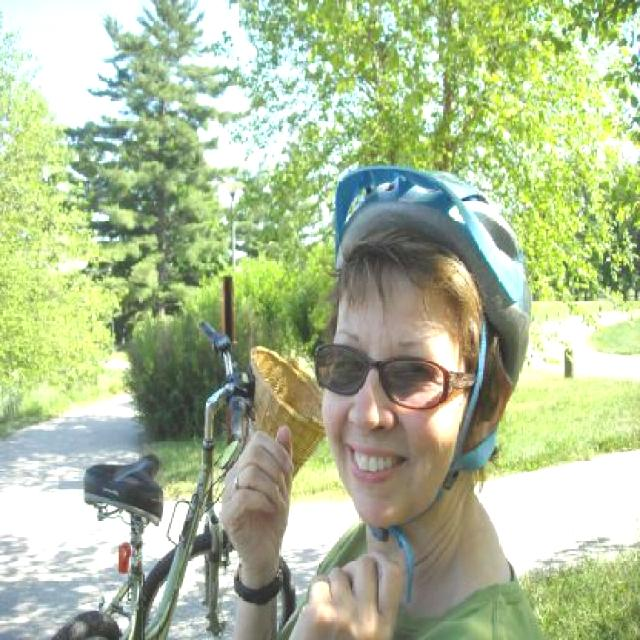face_nomask: (320, 354, 458, 488)
glasses: (313, 340, 476, 414)
hand_noglove: (306, 546, 414, 640), (218, 425, 302, 538)
head_nohelmet: (332, 150, 528, 319)
person: (226, 169, 551, 640)
